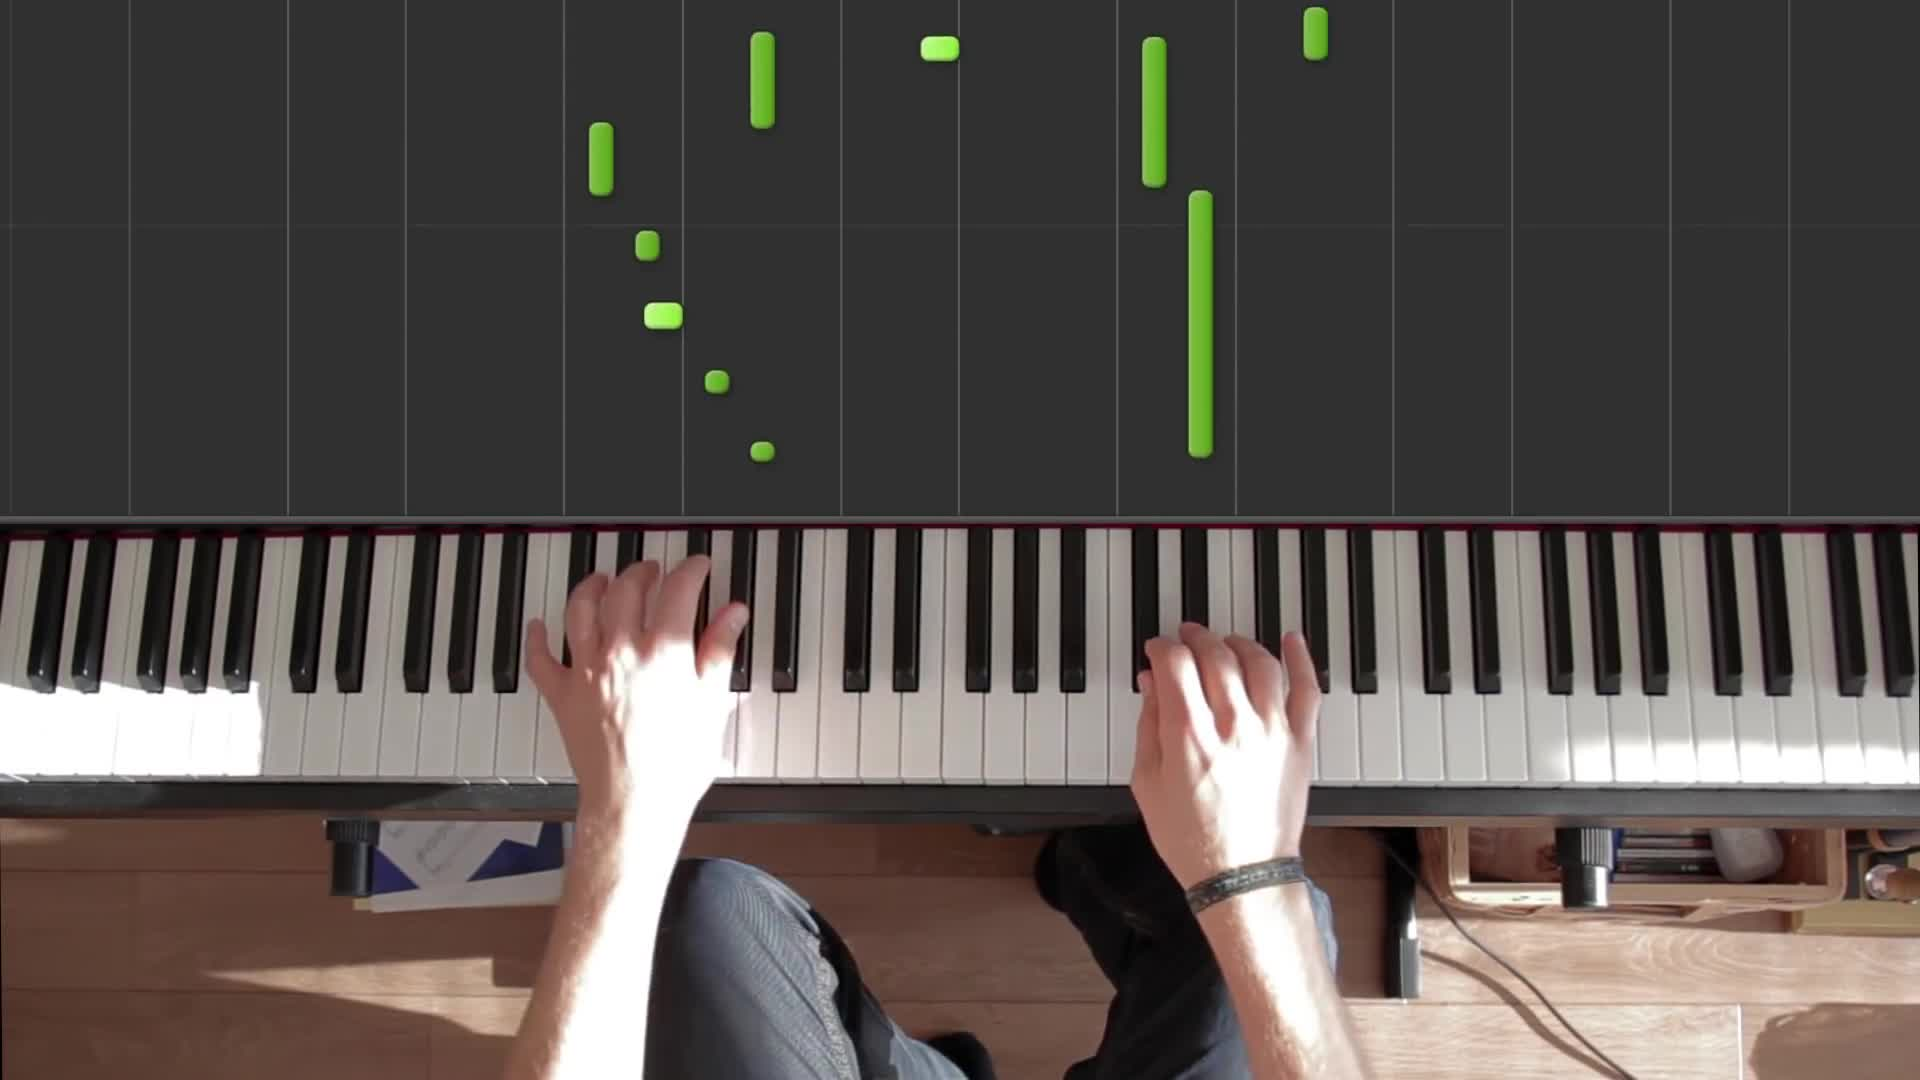left: (522, 546, 753, 807)
right: (1130, 621, 1327, 873)
